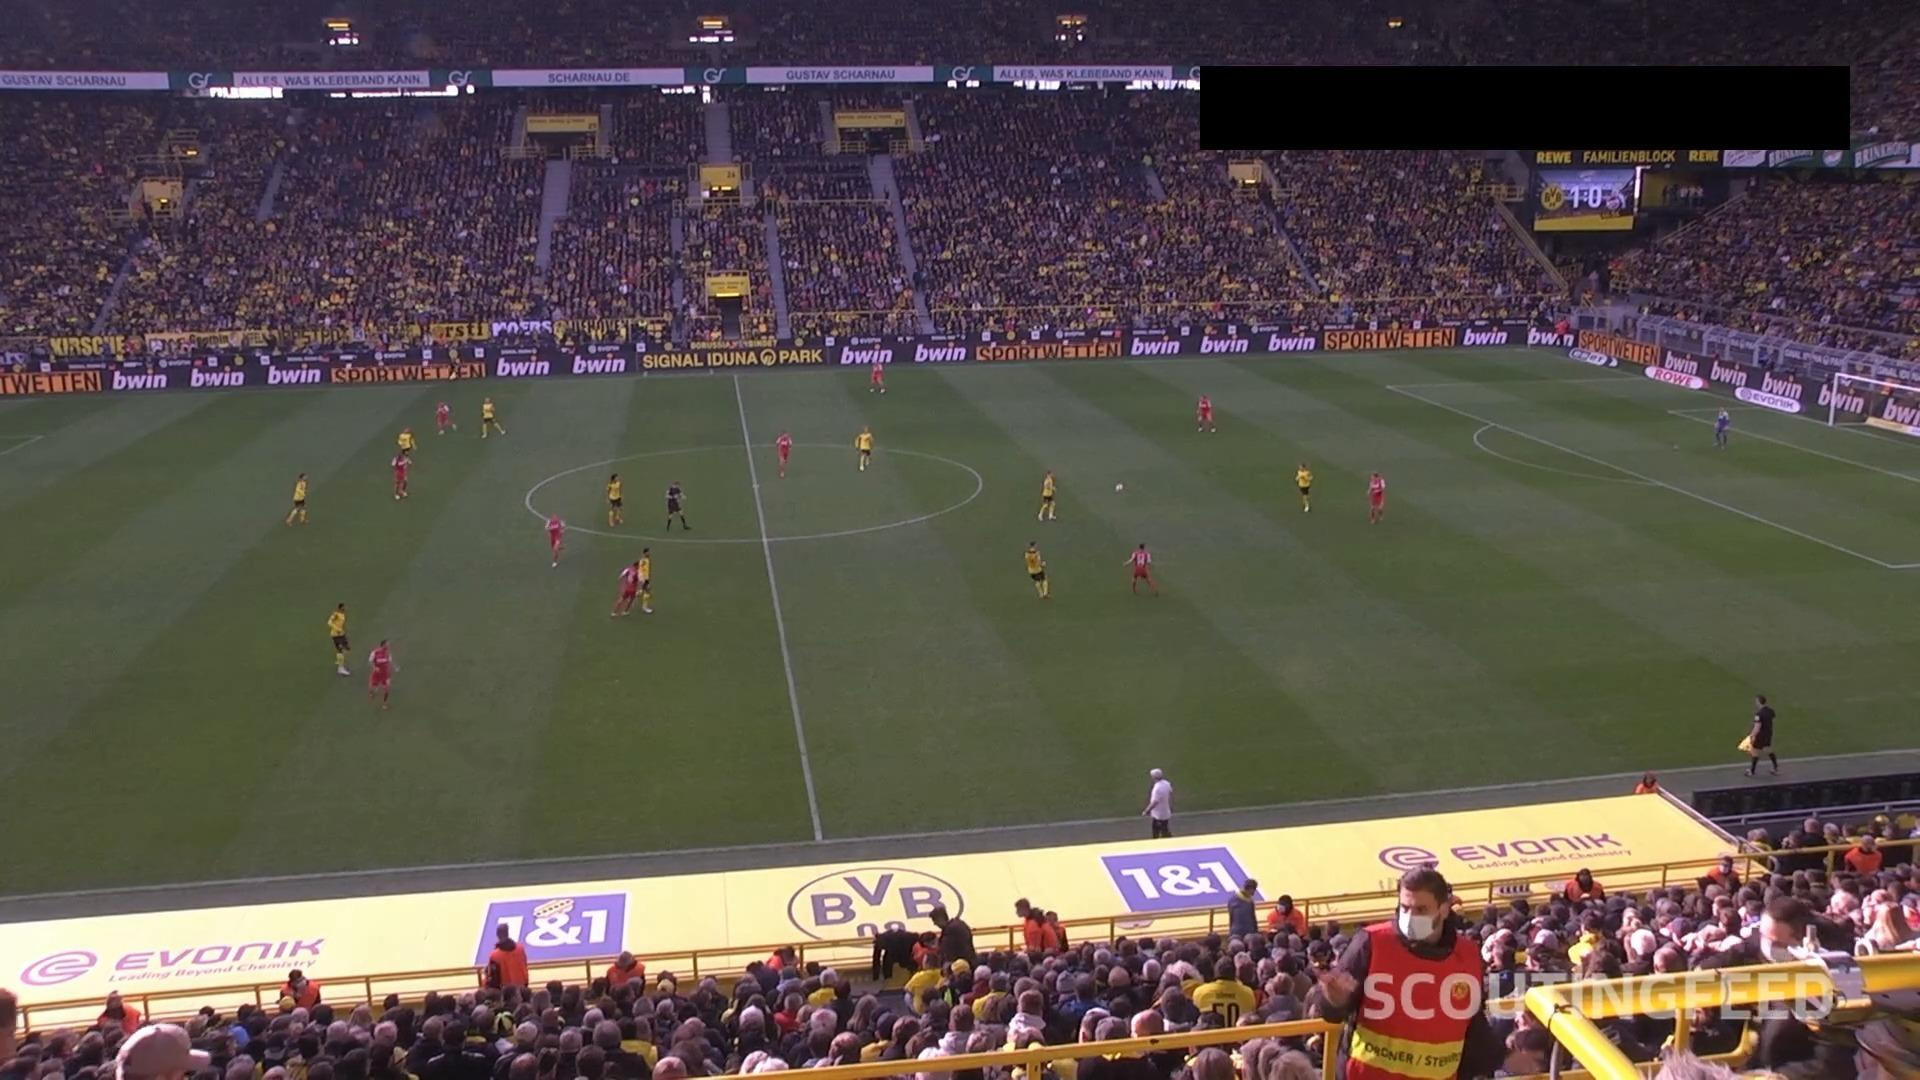ball: (1114, 483, 1123, 491)
coach: (1141, 767, 1174, 838)
fan: (1309, 866, 1501, 1078), (870, 920, 919, 981)
player: (366, 637, 398, 709), (1122, 541, 1157, 596), (326, 601, 352, 675), (609, 561, 638, 616), (1023, 540, 1049, 599), (284, 471, 309, 526), (634, 546, 653, 613), (543, 512, 565, 567), (389, 448, 412, 500), (1036, 469, 1058, 521), (478, 396, 505, 438), (1365, 470, 1386, 523), (605, 471, 624, 526), (853, 425, 873, 471), (1295, 461, 1313, 512), (1195, 393, 1216, 433), (775, 429, 791, 477), (1712, 406, 1730, 448), (434, 400, 455, 434), (396, 426, 416, 459), (868, 359, 885, 393)
referee: (1742, 693, 1779, 777), (664, 480, 689, 530), (446, 342, 460, 379)
